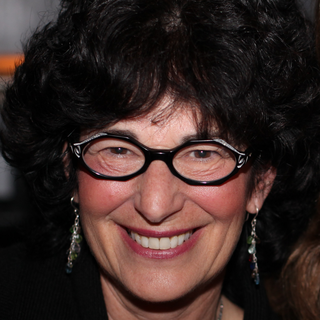eye: (176, 145, 224, 163), (96, 143, 139, 163)
